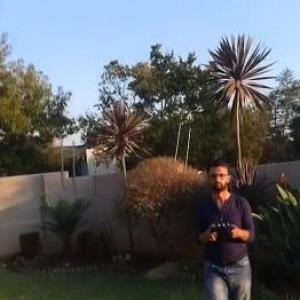follow: (189, 138, 259, 299)
